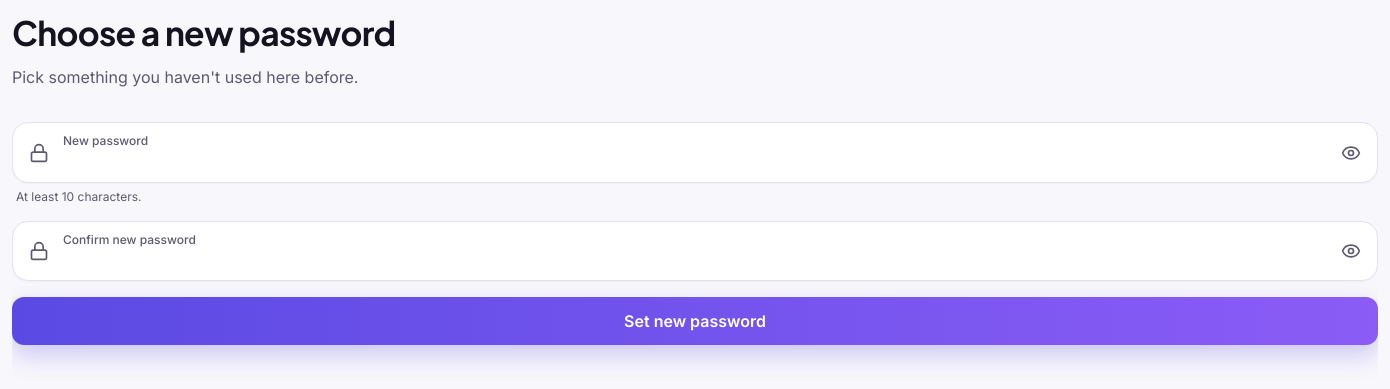
it: reset password › an expired link switches to the request-a-new-link view
This screenshot has width=1390, height=389.
Type "brand-new-passphrase" into the password field labelled "New password" at (692, 161), box [63,149,1321,172]
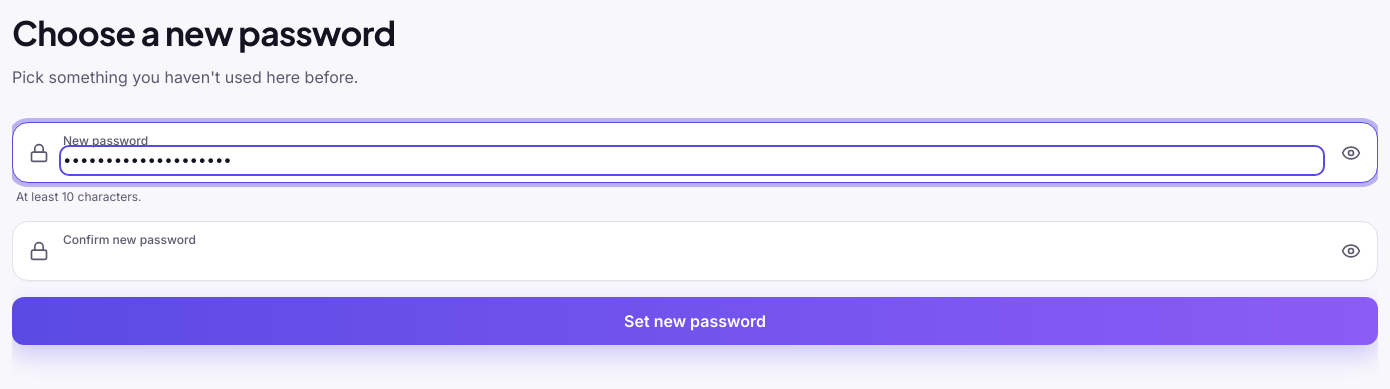
Type "brand-new-passphrase" into the password field labelled "Confirm new password" at (692, 259), box [63,248,1321,270]
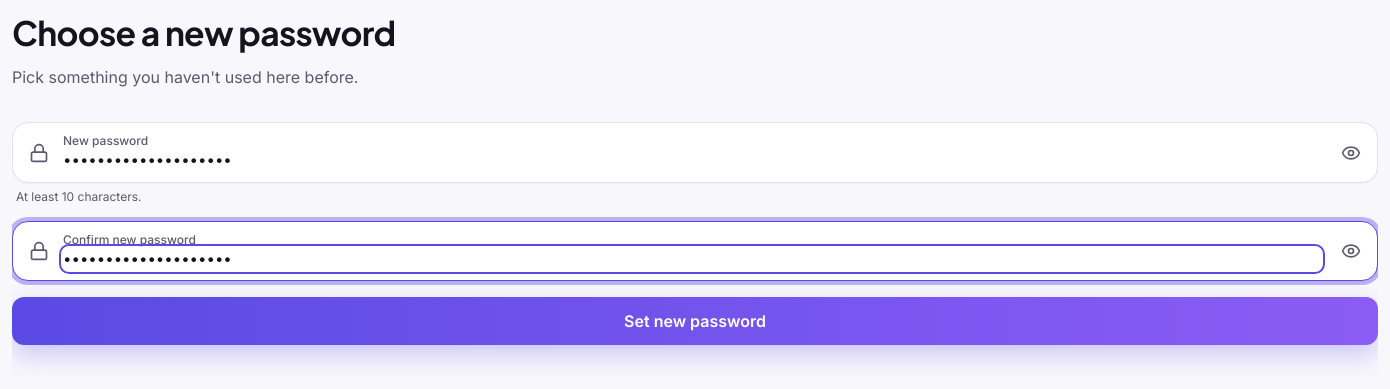
Click the button "Set new password" at (695, 321), box [12,297,1378,345]
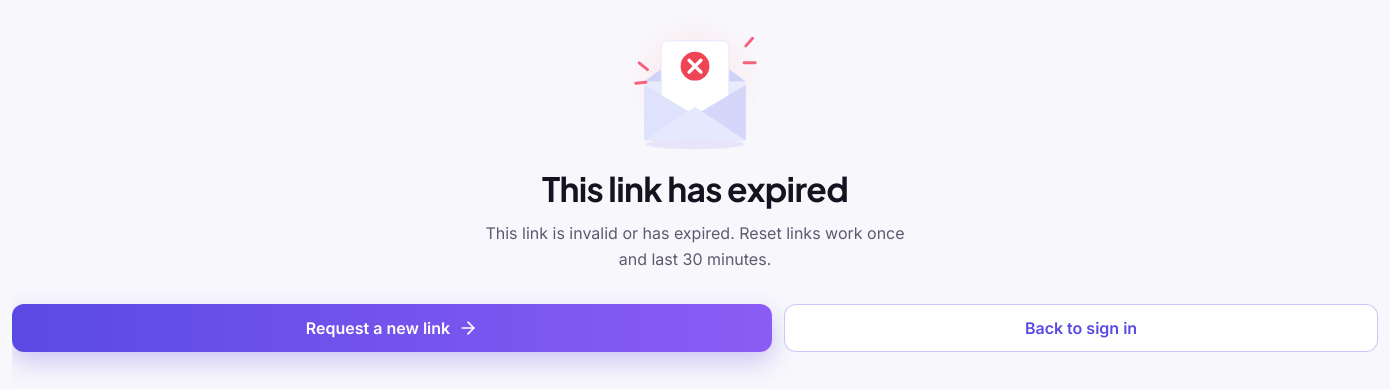
expect the link "Request a new link" is shown: met, box [12,304,772,352]
